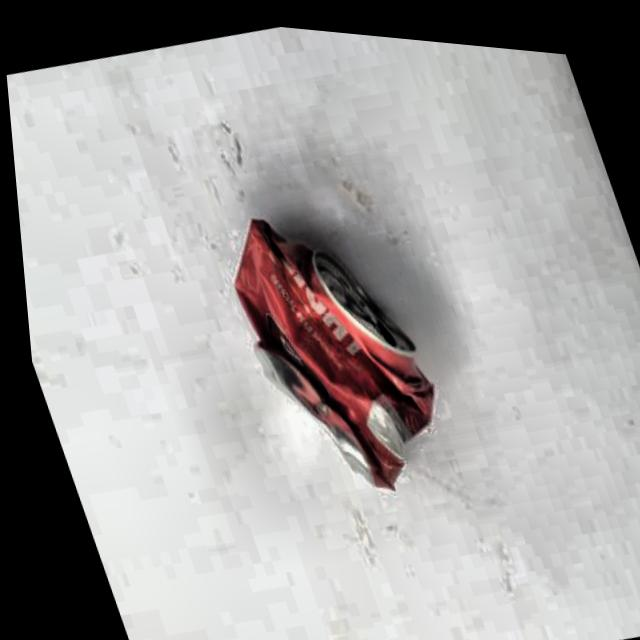Cans: (182, 156, 469, 518)
